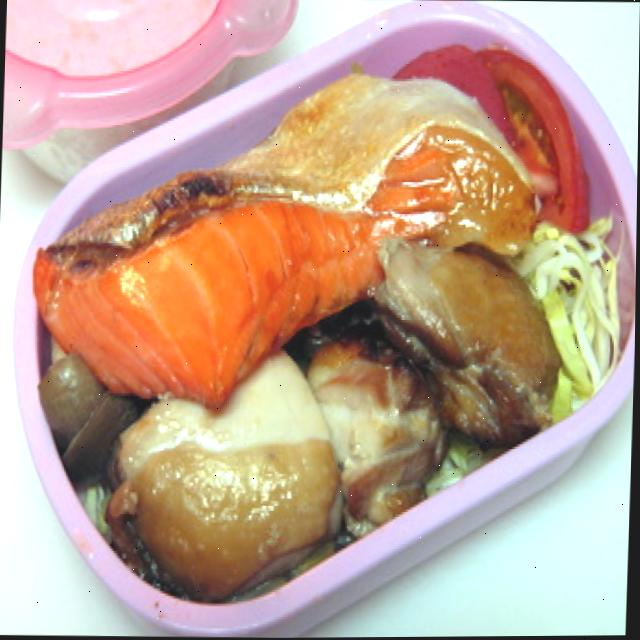熟制海鲜: (23, 41, 555, 415)
